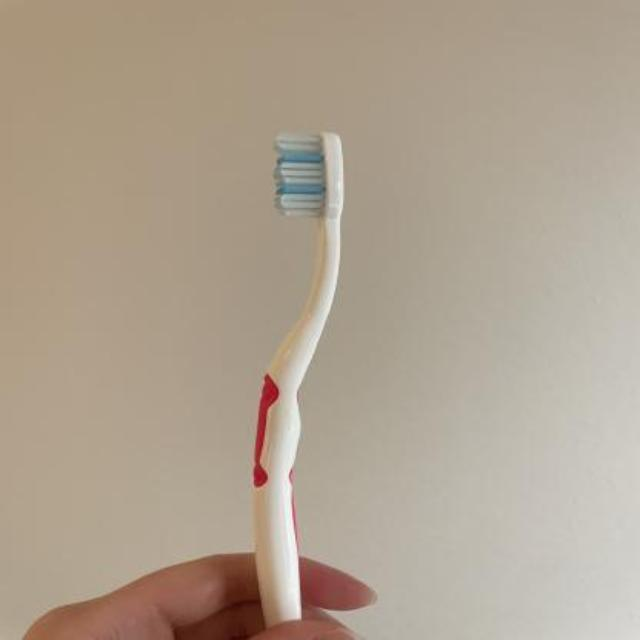toothbrush: (241, 116, 345, 580)
